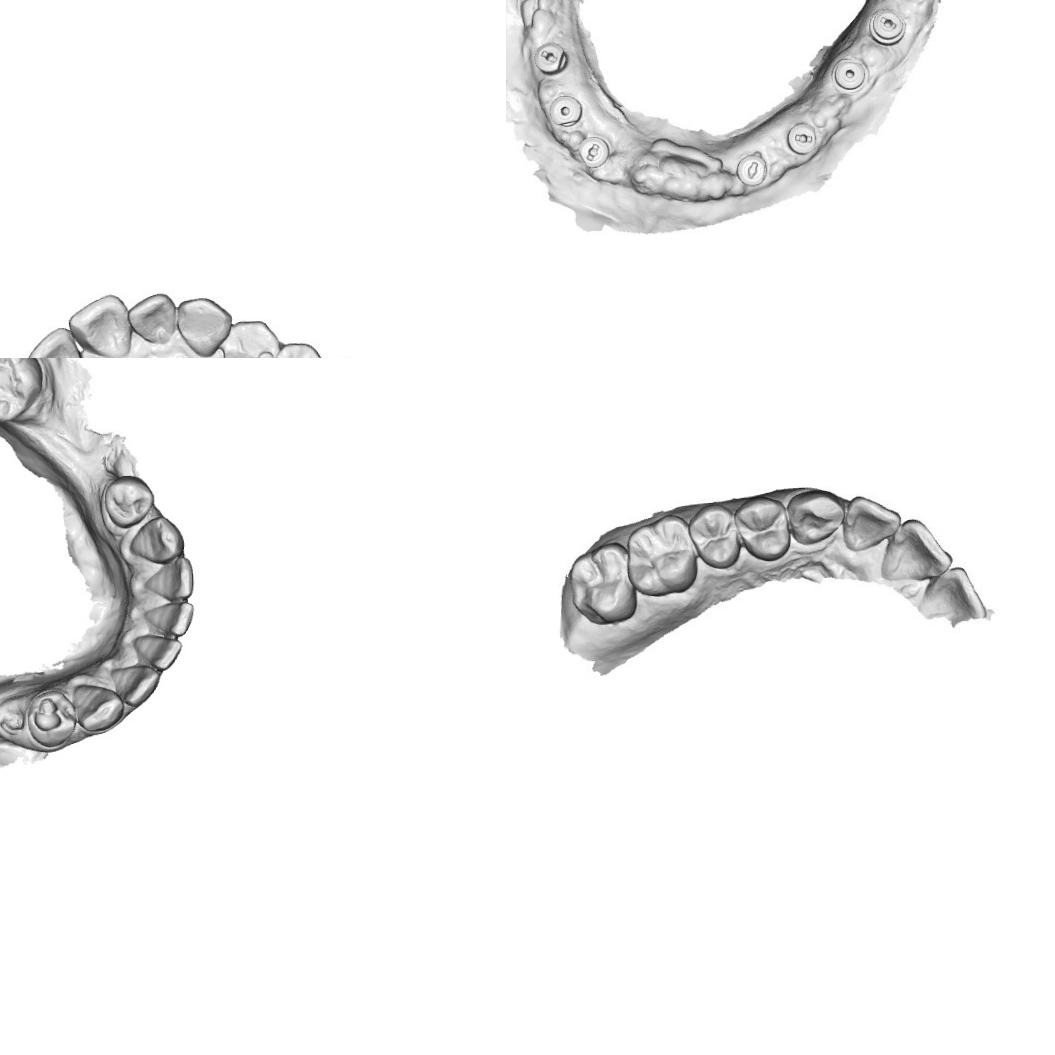canine: (174, 292, 235, 358), (786, 487, 846, 546), (126, 514, 186, 566), (72, 680, 125, 732)
implant: (545, 93, 584, 128), (833, 58, 868, 92)
implant_minus: (572, 137, 615, 171), (532, 40, 572, 76), (867, 10, 906, 46), (734, 151, 768, 188), (786, 120, 820, 156)
incisor: (876, 516, 954, 585), (65, 292, 132, 358), (916, 564, 985, 623), (840, 492, 906, 552), (125, 288, 178, 348), (142, 554, 195, 604), (108, 662, 162, 707), (22, 325, 89, 358), (140, 599, 196, 638), (132, 632, 184, 672)
molar: (622, 511, 699, 596), (565, 541, 640, 628), (0, 358, 45, 425)
premolar: (734, 493, 794, 564), (687, 506, 742, 570), (24, 688, 78, 748), (100, 473, 156, 530), (217, 318, 280, 358), (265, 337, 327, 358)
